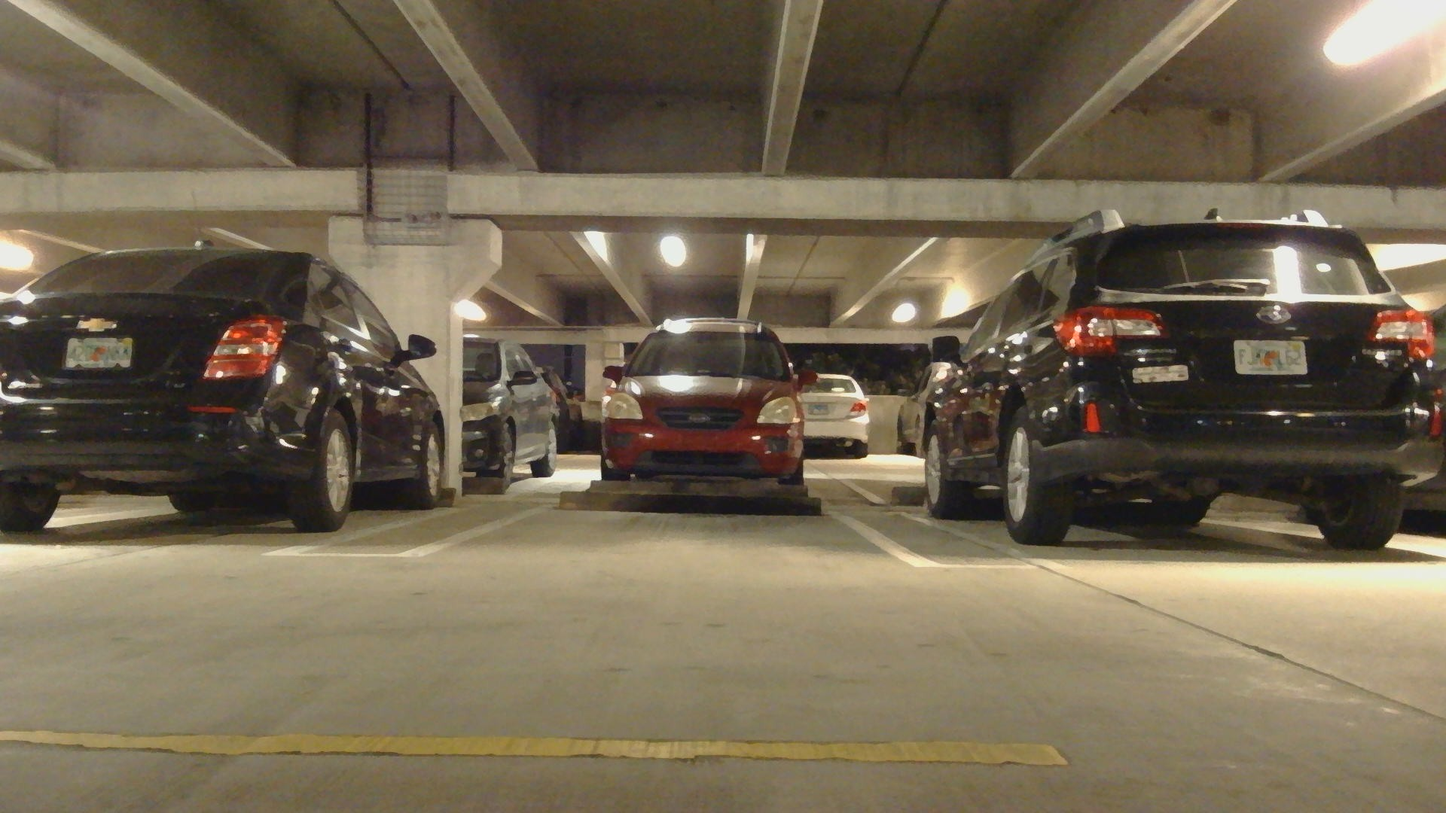empty_spot: (392, 481, 957, 571)
occupied_spot: (902, 221, 1446, 563), (0, 240, 455, 562)
